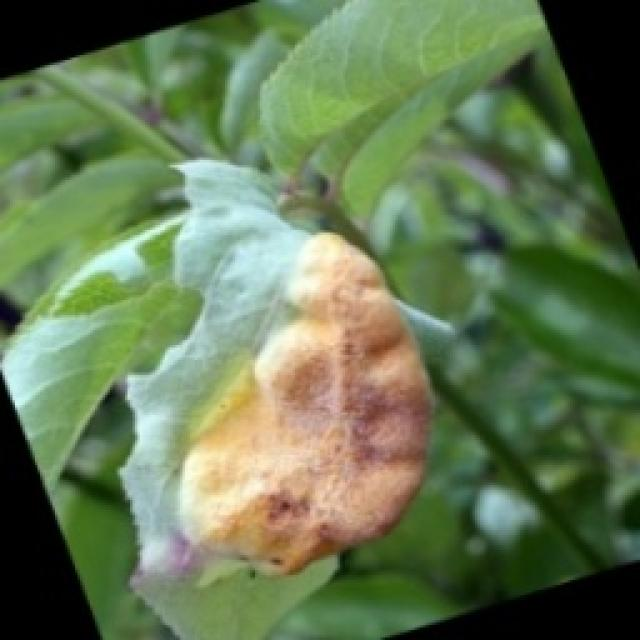Elderberry_rust: (170, 228, 435, 578)
